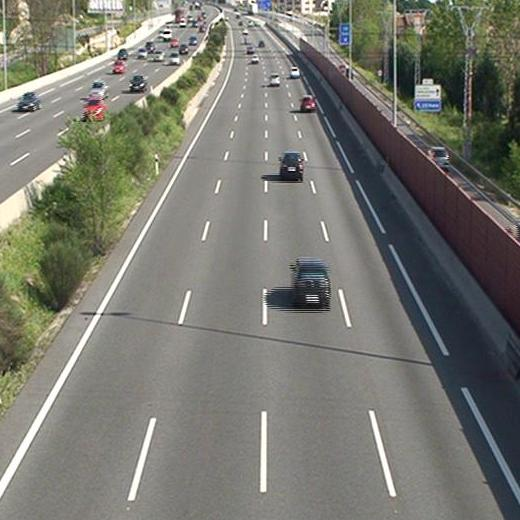car: (291, 259, 331, 304), (280, 152, 302, 179), (300, 95, 317, 111), (269, 73, 282, 86), (290, 67, 300, 79), (250, 54, 258, 64)
